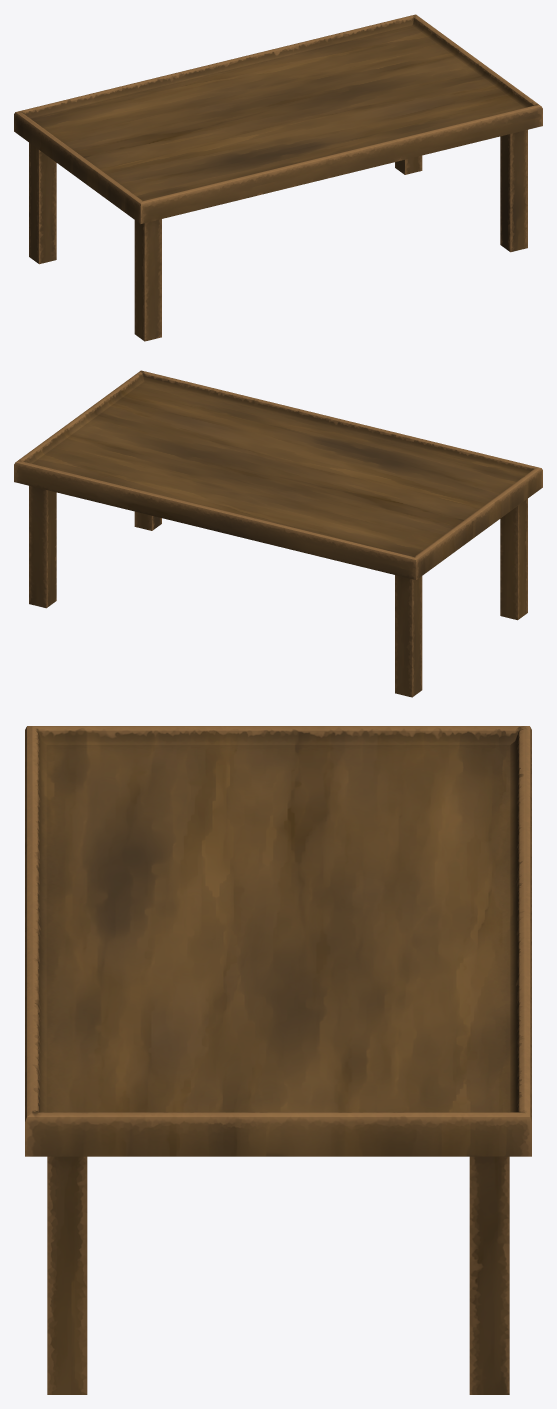
The model's file is BiblioTable.fbx.
3 views of the same model, one above another, from view 1: azimuth 30°, elevation 25°; view 2: azimuth 150°, elevation 25°; view 3: azimuth 270°, elevation 25° (orthographic). The views are drawn at different scales.
Parts seen in each view (by area): view 1: mesabiblio; view 2: mesabiblio; view 3: mesabiblio.
Part boxes in pixels (bbox=[...]): mesabiblio: bbox=[14, 14, 542, 341]; mesabiblio: bbox=[14, 370, 542, 697]; mesabiblio: bbox=[25, 726, 531, 1394].
Size of the model in its own units: 660 by 226 by 360.
